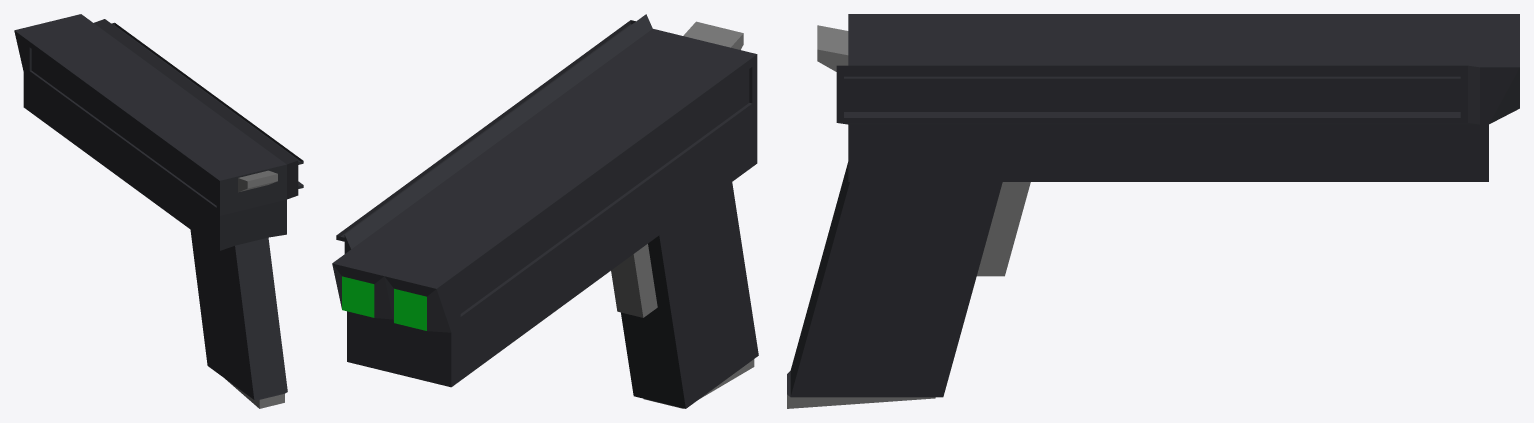
The model's file is pistol.glb.
The picture shows the model from 3 angles, left to right: view 1: azimuth 30°, elevation 25°; view 2: azimuth 150°, elevation 25°; view 3: azimuth 270°, elevation 25°; orthographic projection. The views are drawn at different scales.
Parts seen in each view (by area): view 1: Cube; view 2: Cube; view 3: Cube.
Part boxes in pixels (box(x1,y1,x2,y2)): Cube: box(14, 14, 303, 408); Cube: box(332, 14, 758, 408); Cube: box(787, 14, 1519, 408).
Bounding box in the file's own units: 0.2464 × 0.6397 × 1.16.
